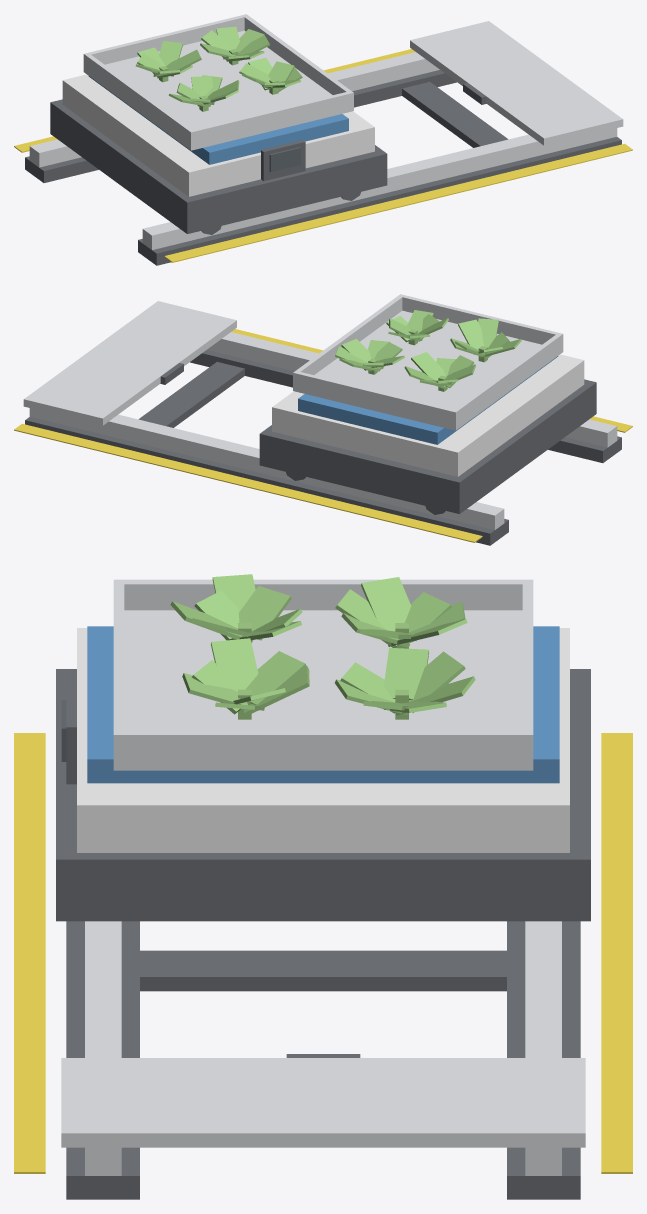
Rendered from vertical-farm-and-hydroponics-tower-vertical-farm-and--fbf0240c__38380.glb.
3 views of the same model, one above another, from view 1: azimuth 30°, elevation 25°; view 2: azimuth 150°, elevation 25°; view 3: azimuth 270°, elevation 25° (orthographic). The views are drawn at different scales.
Visible parts, largest first — view 1: vertical-farm-and-hydroponics-tower-rack-shuttle-robot, shuttle/steel, shuttle/charcoal, lid-transfer/steel, shuttle/panel, shuttle/leaf, shuttle/blue, shuttle/screen; view 2: vertical-farm-and-hydroponics-tower-rack-shuttle-robot, shuttle/steel, shuttle/charcoal, lid-transfer/steel, shuttle/panel, shuttle/leaf, shuttle/blue; view 3: vertical-farm-and-hydroponics-tower-rack-shuttle-robot, shuttle/steel, lid-transfer/steel, shuttle/charcoal, shuttle/panel, shuttle/leaf, shuttle/blue.
Part boxes in pixels (x1,y1,x2,y2): vertical-farm-and-hydroponics-tower-rack-shuttle-robot: (14,49,632,265); shuttle/steel: (83,14,353,150); shuttle/charcoal: (50,99,387,234); lid-transfer/steel: (410,21,623,145); shuttle/panel: (62,74,374,196); shuttle/leaf: (135,26,302,111); shuttle/blue: (88,76,348,164); shuttle/screen: (269,147,300,171); vertical-farm-and-hydroponics-tower-rack-shuttle-robot: (14,329,632,545); shuttle/steel: (293,294,563,430); shuttle/charcoal: (259,379,596,514); lid-transfer/steel: (23,301,236,425); shuttle/panel: (272,354,584,476); shuttle/leaf: (335,310,521,391); shuttle/blue: (298,356,558,444); vertical-farm-and-hydroponics-tower-rack-shuttle-robot: (14,733,632,1199); shuttle/steel: (113,579,533,770); lid-transfer/steel: (61,1058,585,1147); shuttle/charcoal: (56,669,590,921); shuttle/panel: (77,628,569,852); shuttle/leaf: (170,574,475,719); shuttle/blue: (87,626,559,783).
Size of the model in its own units: 2 by 0.5186 by 1.18.
